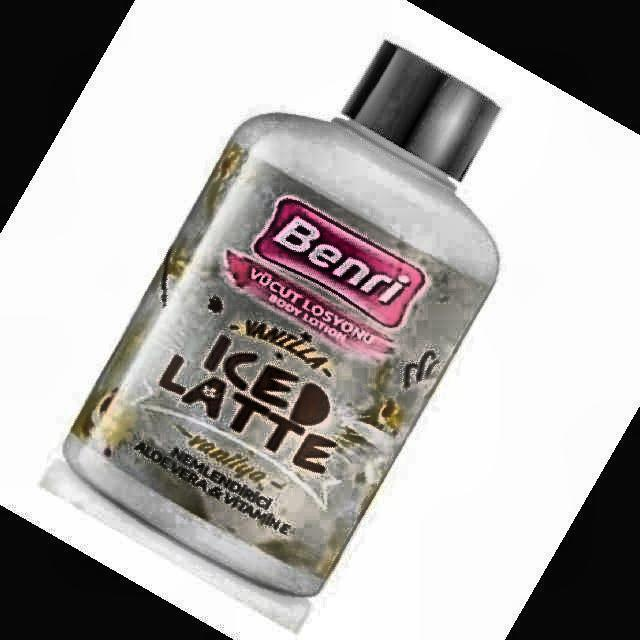plastic: (64, 41, 500, 595)
